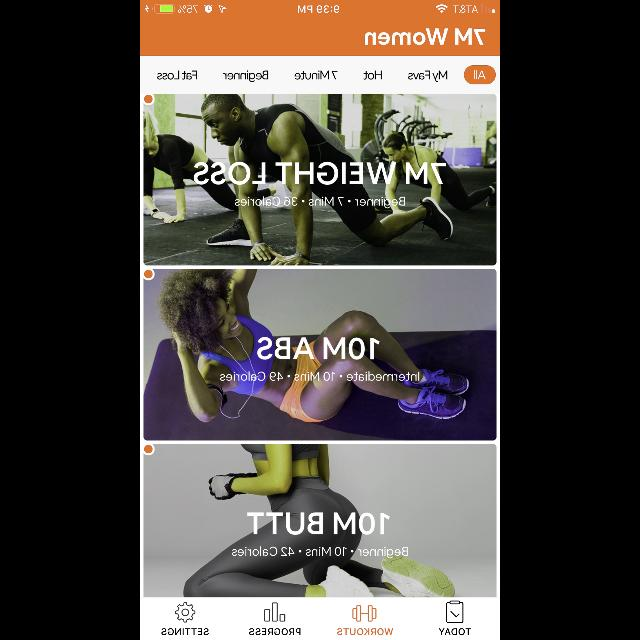icon: (264, 602, 286, 622), (175, 602, 195, 622), (446, 600, 462, 624)
image: (144, 94, 496, 266), (144, 270, 496, 440), (144, 444, 496, 598), (352, 604, 376, 622)
text: (194, 162, 446, 184), (248, 513, 390, 535), (256, 338, 380, 360), (232, 547, 408, 559), (235, 197, 405, 209), (220, 371, 420, 381), (364, 29, 486, 45), (224, 70, 268, 82), (408, 70, 447, 82), (337, 628, 393, 636), (294, 70, 338, 80), (250, 628, 300, 636), (157, 70, 197, 80), (162, 628, 208, 636), (439, 628, 471, 636), (362, 70, 382, 80)
textbutton: (464, 66, 496, 84)
uppertaskbar: (140, 0, 500, 14)
